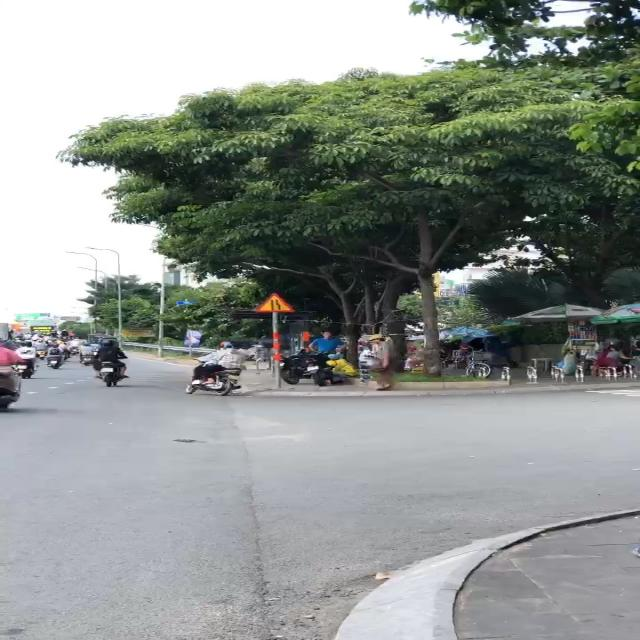Bien bao duong bi thu hep: (254, 291, 303, 314)
